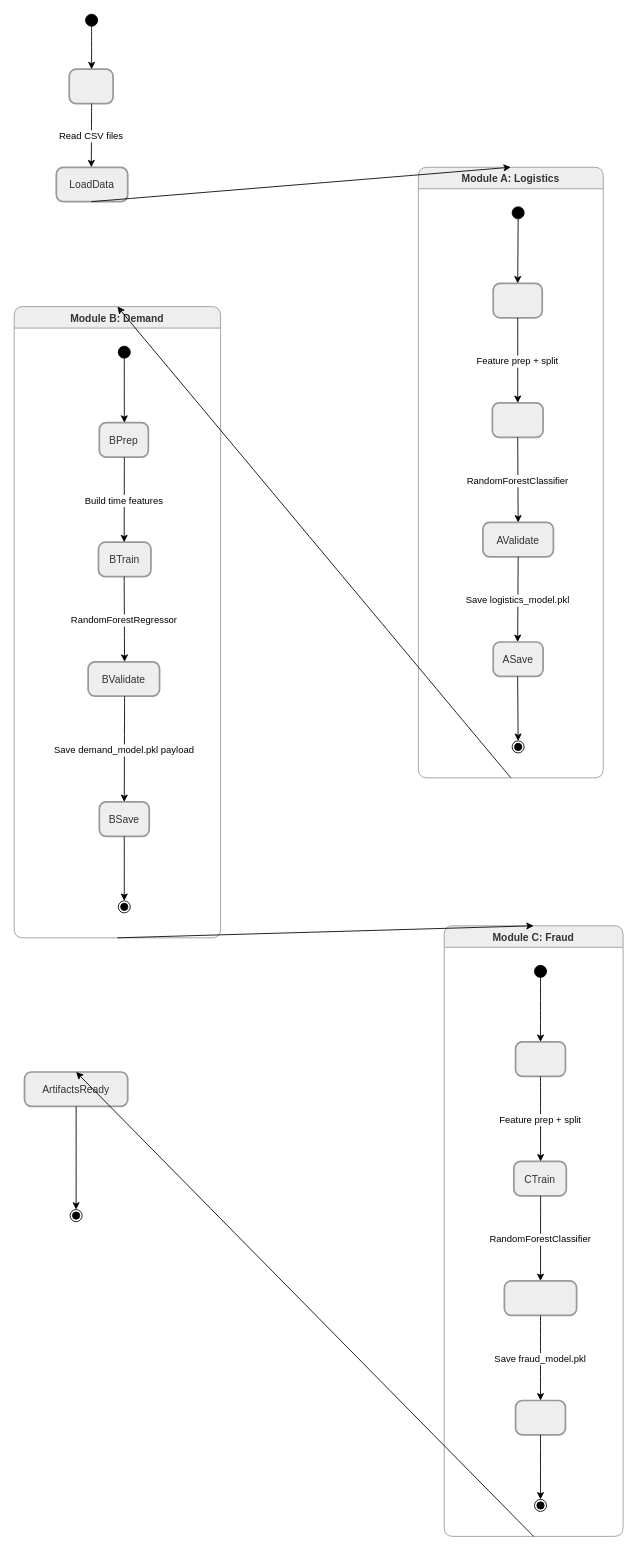
This 637x1551 diagram has some shape labels left out. The centre of each missing label's shape, as x and y in pixels:
APrep: pixel 517 300
ATrain: pixel 517 420
CPrep: pixel 540 1059
CSave: pixel 540 1417
CValidate: pixel 540 1298
Start: pixel 91 86
